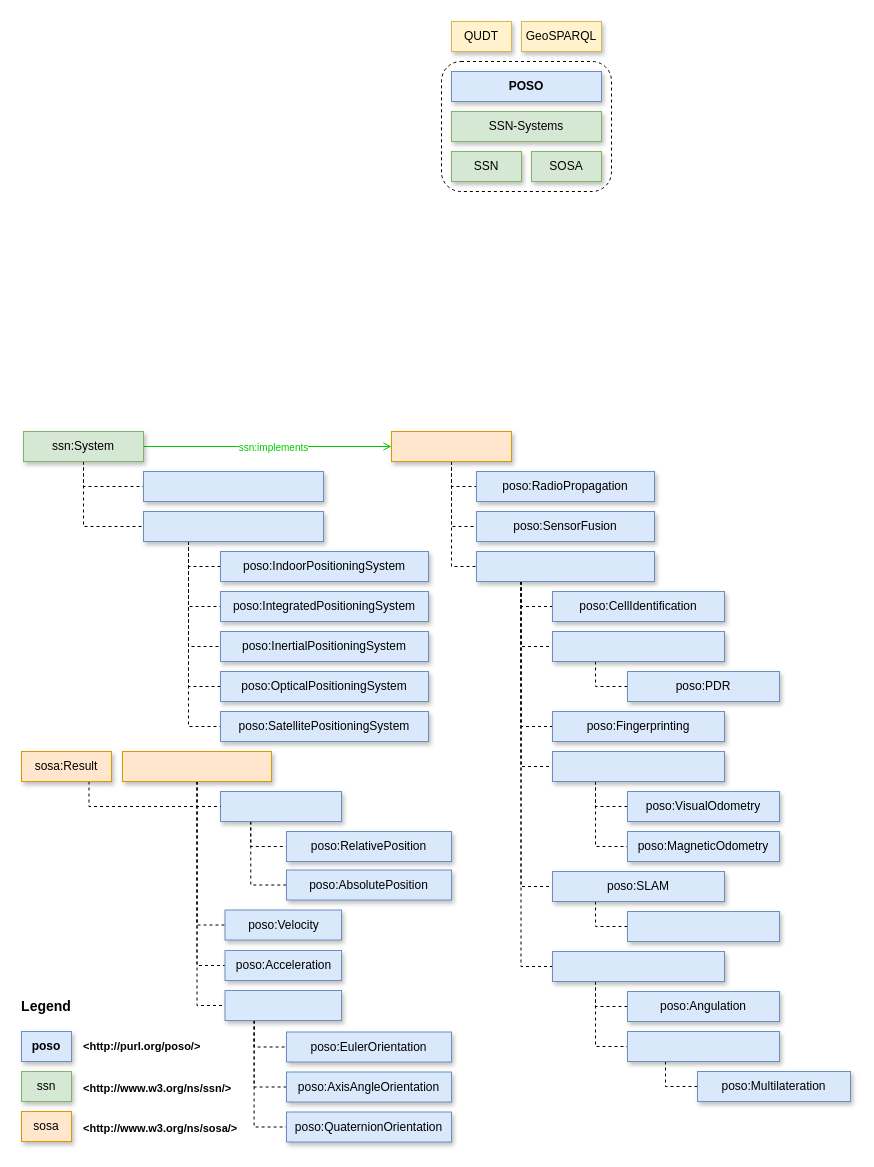
Image size: 874x1167. Some labels were removed from this diagram. The shapes that lost their labels are listed below. From the top down, each one's centre as x and y in pixels, then its label:
the point at 452,447: sosa:Procedure
the point at 234,487: poso:LocationBasedService
the point at 234,527: poso:PositioningSystem
the point at 566,567: poso:PositioningTechnique
the point at 639,647: poso:DeadReckoning
the point at 198,767: sosa:ObservableProperty
the point at 639,767: poso:Odometry
the point at 282,807: poso:Position
the point at 704,927: poso:VSLAM
the point at 639,967: poso:Triangulation
the point at 284,1007: poso:Orientation
the point at 704,1047: poso:Lateration
